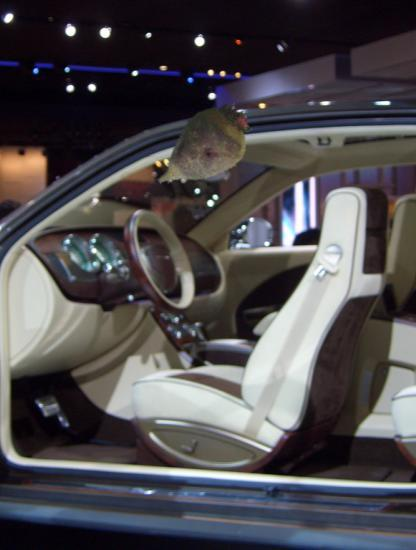Beetroot: (146, 90, 264, 208)
